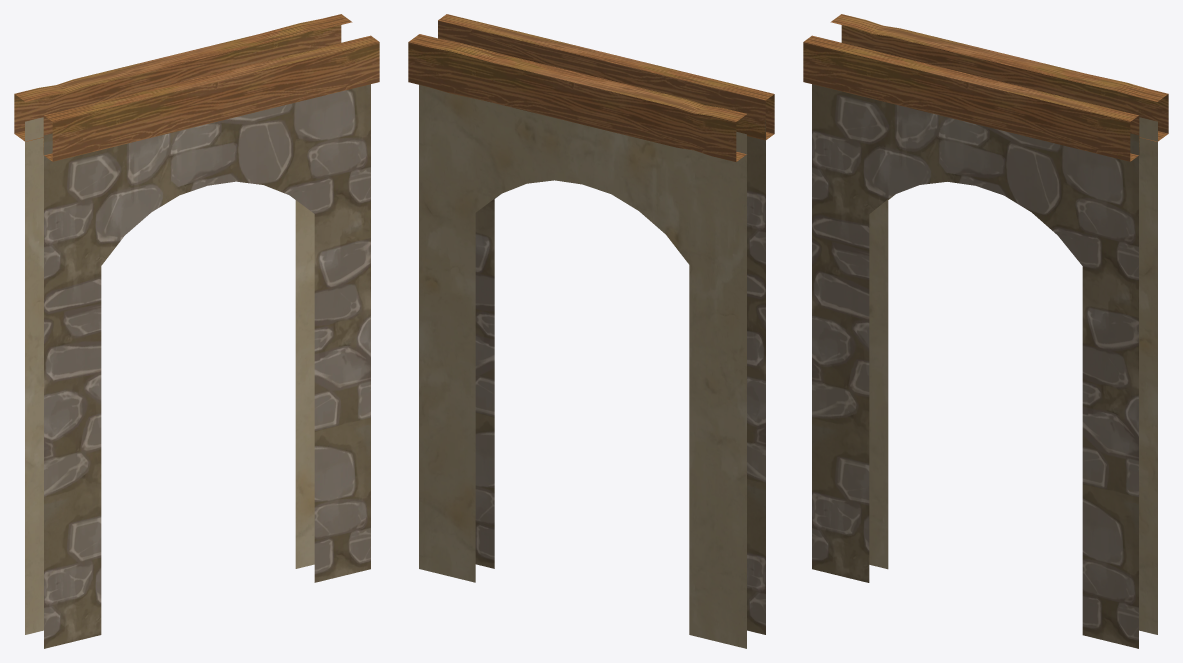
Rendered from Wall_UnevenBrick_Door_Round.gltf.
3 views of the same model, side by side, from view 1: azimuth 30°, elevation 25°; view 2: azimuth 150°, elevation 25°; view 3: azimuth 330°, elevation 25° (orthographic).
Parts seen in each view (by area): view 1: Wall_UnevenBrick_Door_Round; view 2: Wall_UnevenBrick_Door_Round; view 3: Wall_UnevenBrick_Door_Round.
Part boxes in pixels (x1,y1,x2,y2): Wall_UnevenBrick_Door_Round: (14,14,379,648); Wall_UnevenBrick_Door_Round: (408,14,774,648); Wall_UnevenBrick_Door_Round: (803,14,1168,648).
Bounding box in the file's own units: 2 × 3.12 × 0.4064.
3 materials, 3 textured.
